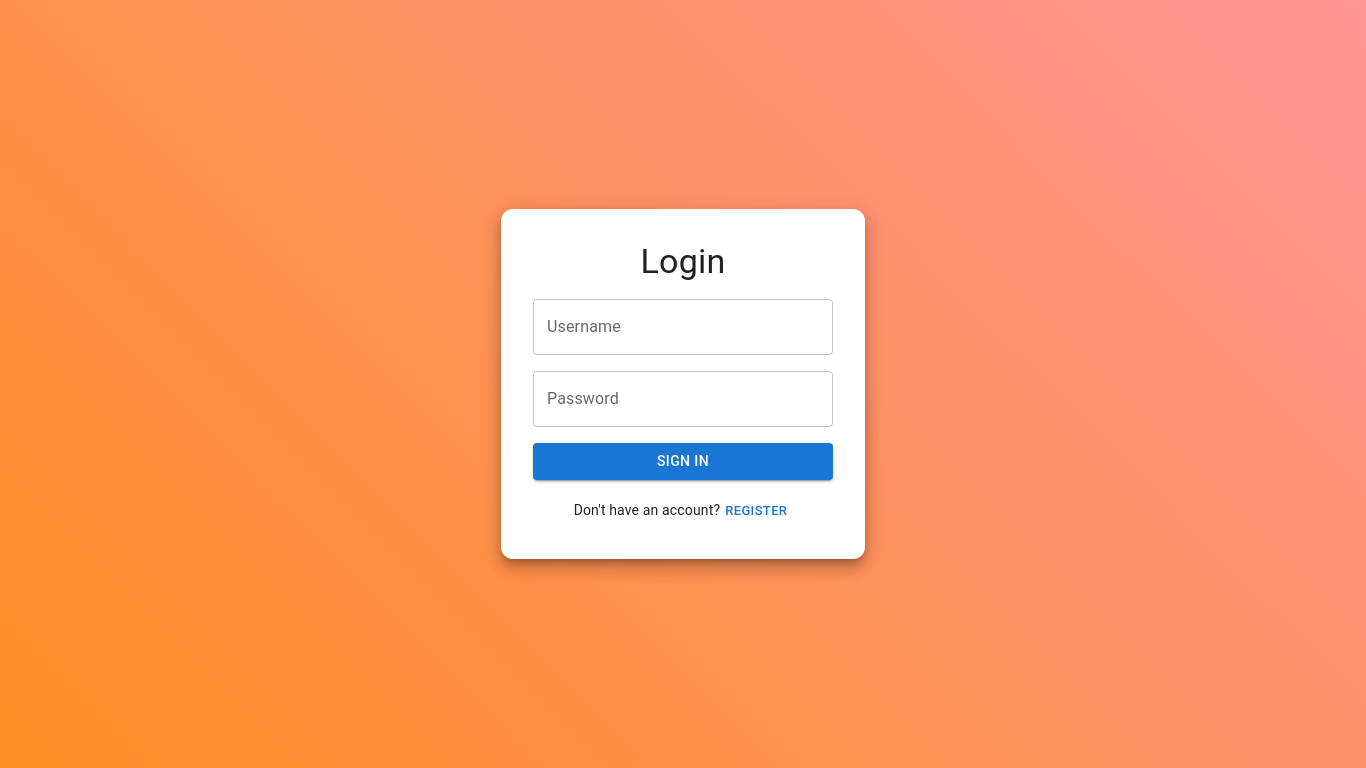
Test case: Login Flow › allows navigation to registration page
Click the button "Register" at (756, 512), box 720,496 -> 792,527
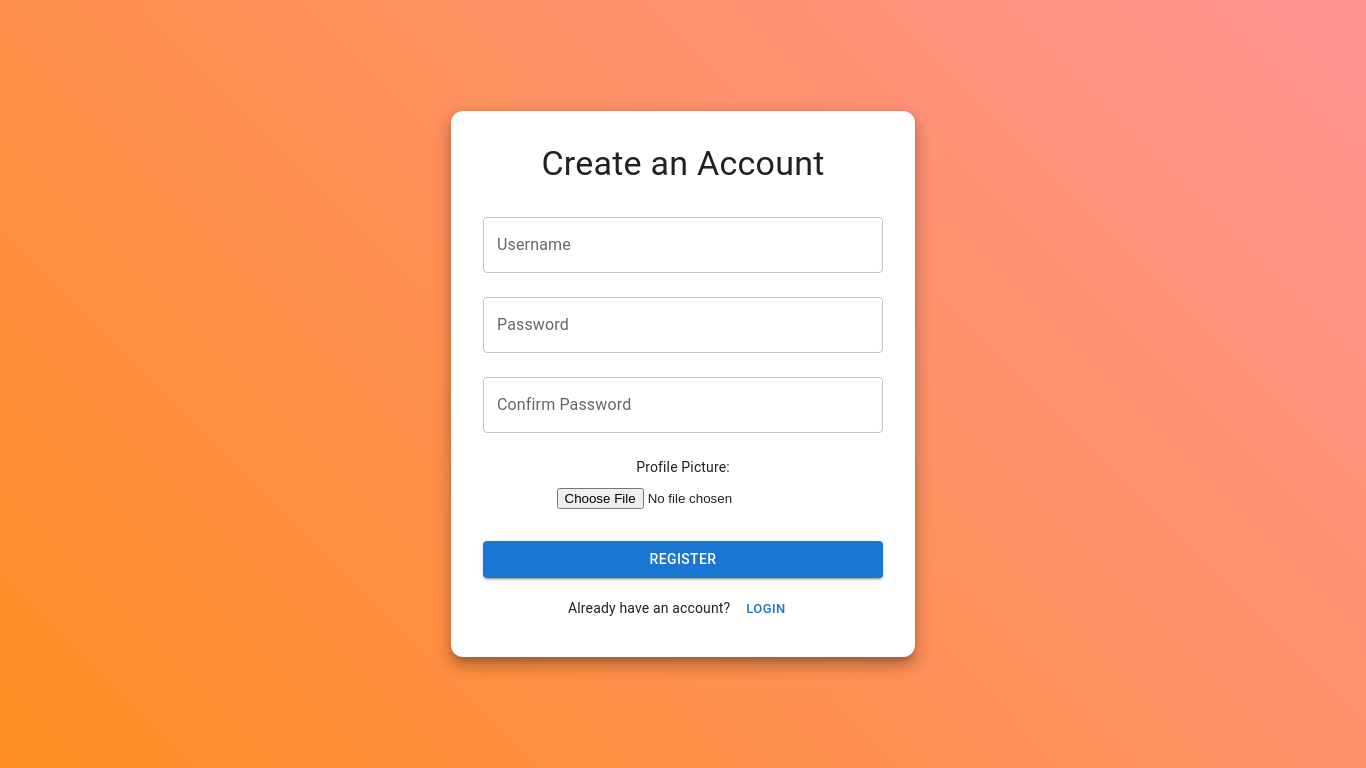
Now the heading "Create an Account" is shown, box 541,143 -> 825,183
